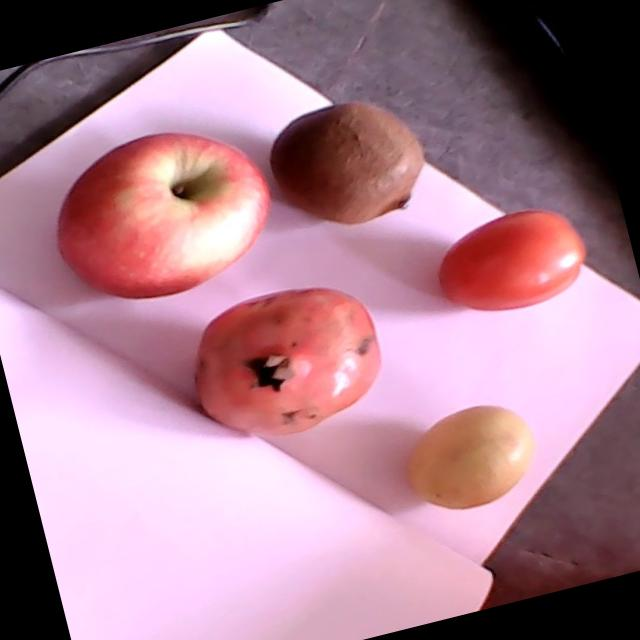apple: (57, 134, 268, 299)
kiwi: (268, 103, 424, 223)
lemon: (409, 405, 531, 507)
pomegranate: (192, 289, 381, 437)
tomato: (437, 210, 586, 310)
